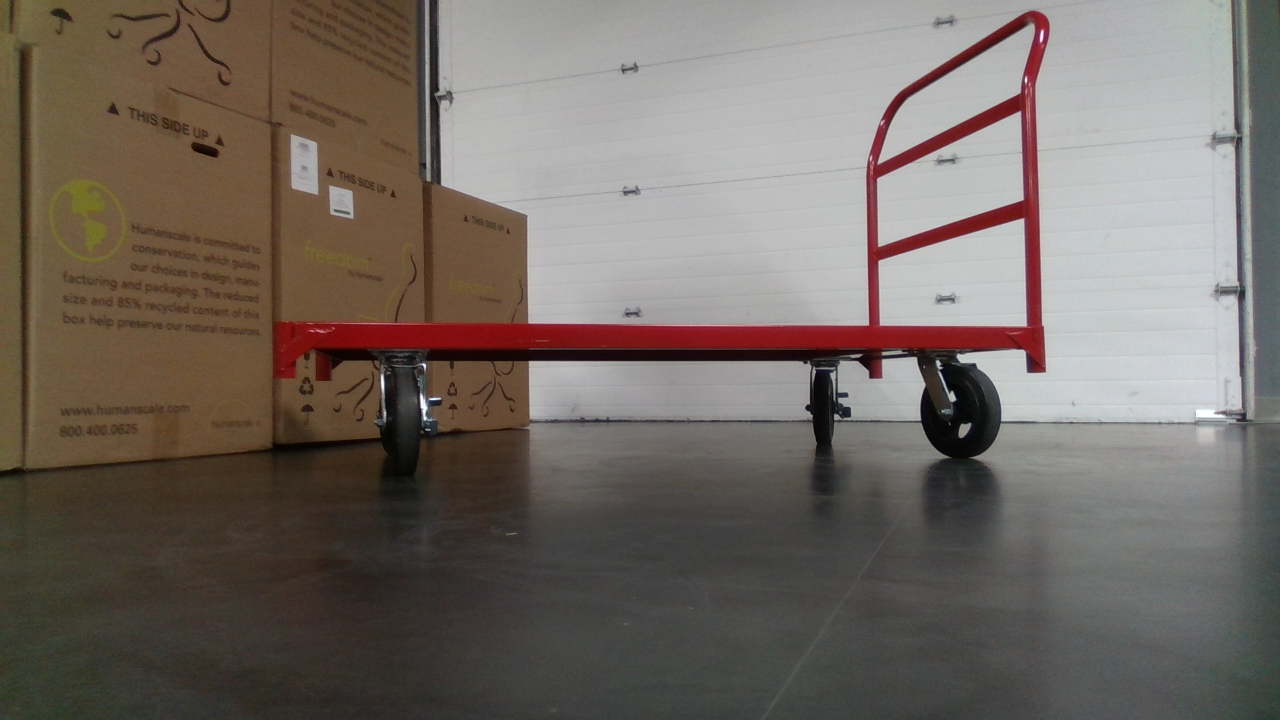Dolly: (258, 4, 1058, 485)
Wheel: (372, 354, 442, 481), (918, 363, 1003, 460), (803, 366, 853, 448)
